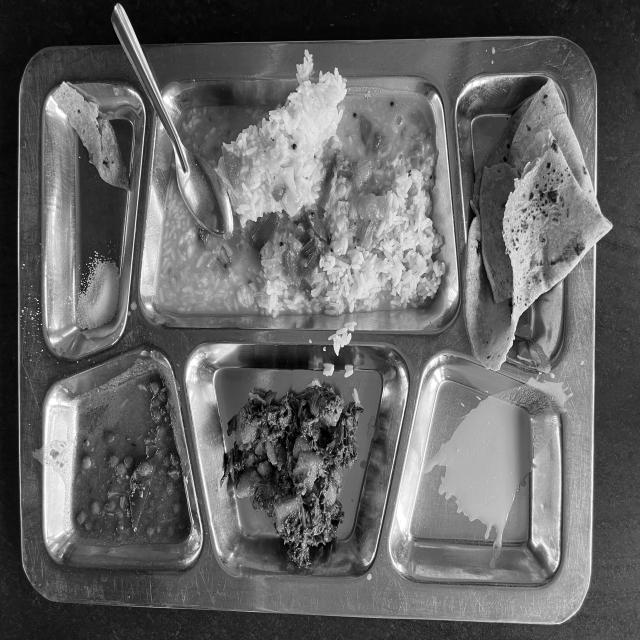100.3- Food Left: (30, 61, 587, 592)
